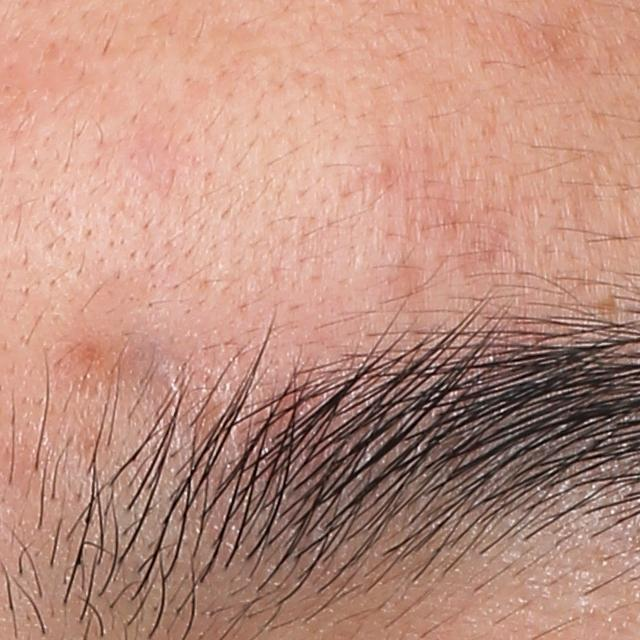comedo: (366, 156, 393, 177)
